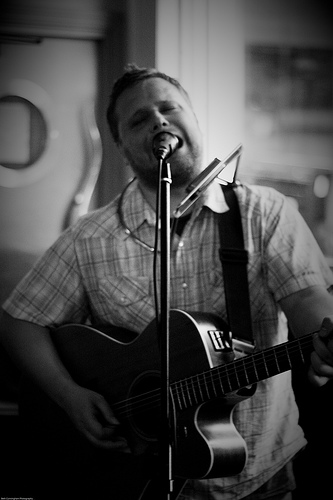guitar: (14, 300, 333, 500)
